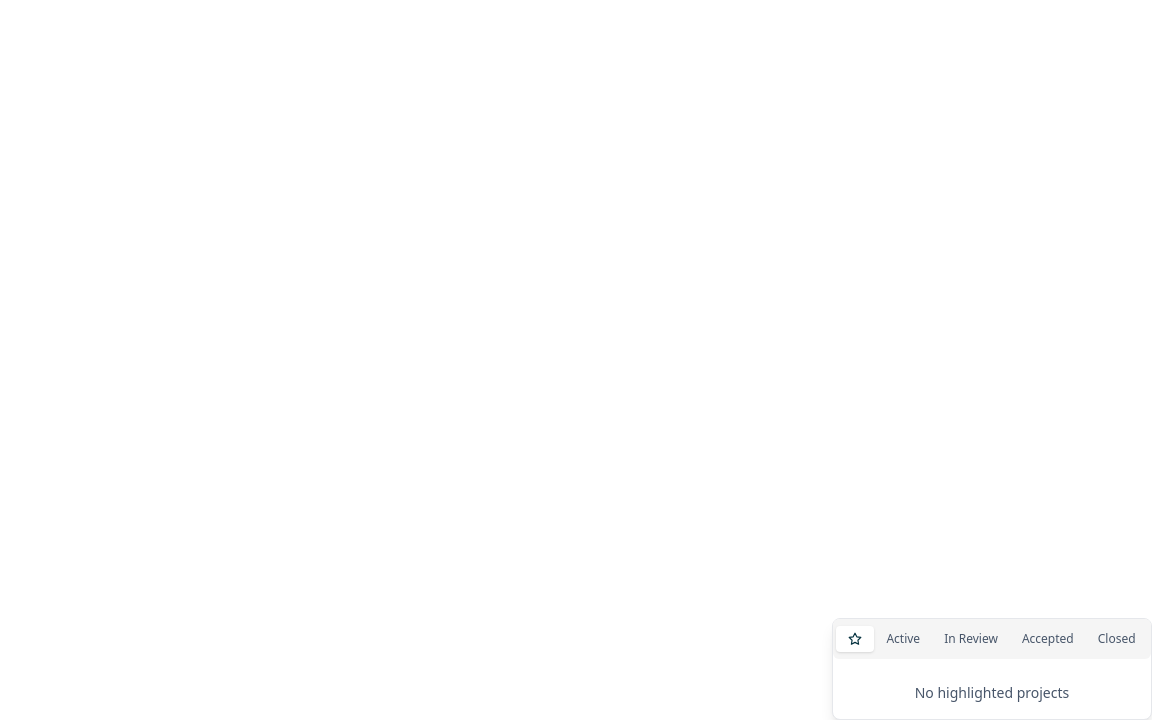
ProjectsListFloating › renders projects in the active tab after switching
(page scrolled)
Click the tab "Active" at (903, 639), box 874,625 -> 932,653
(page scrolled)
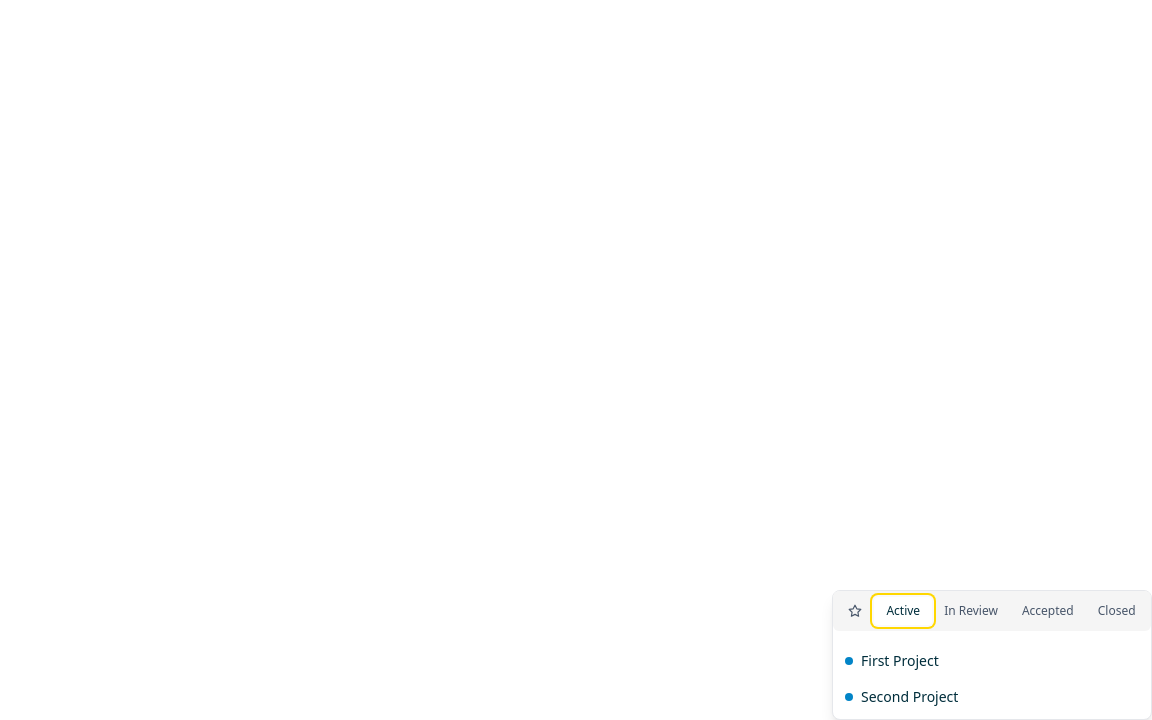
expect the text "First Project" is shown: met, box 861,651 -> 939,671
expect the text "Second Project" is shown: met, box 861,687 -> 958,707
